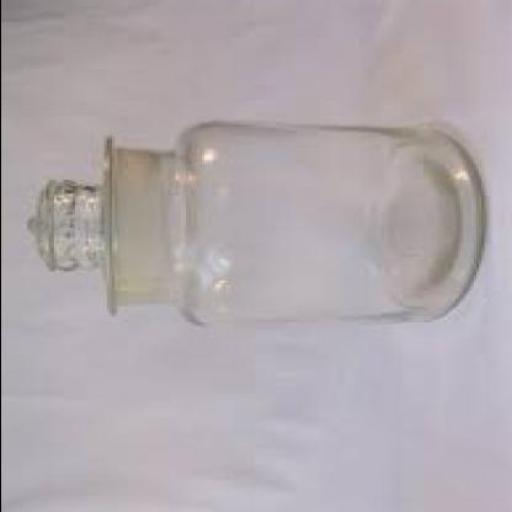glass: (24, 126, 483, 328)
